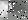person: (1, 2, 9, 18), (9, 2, 15, 14)
